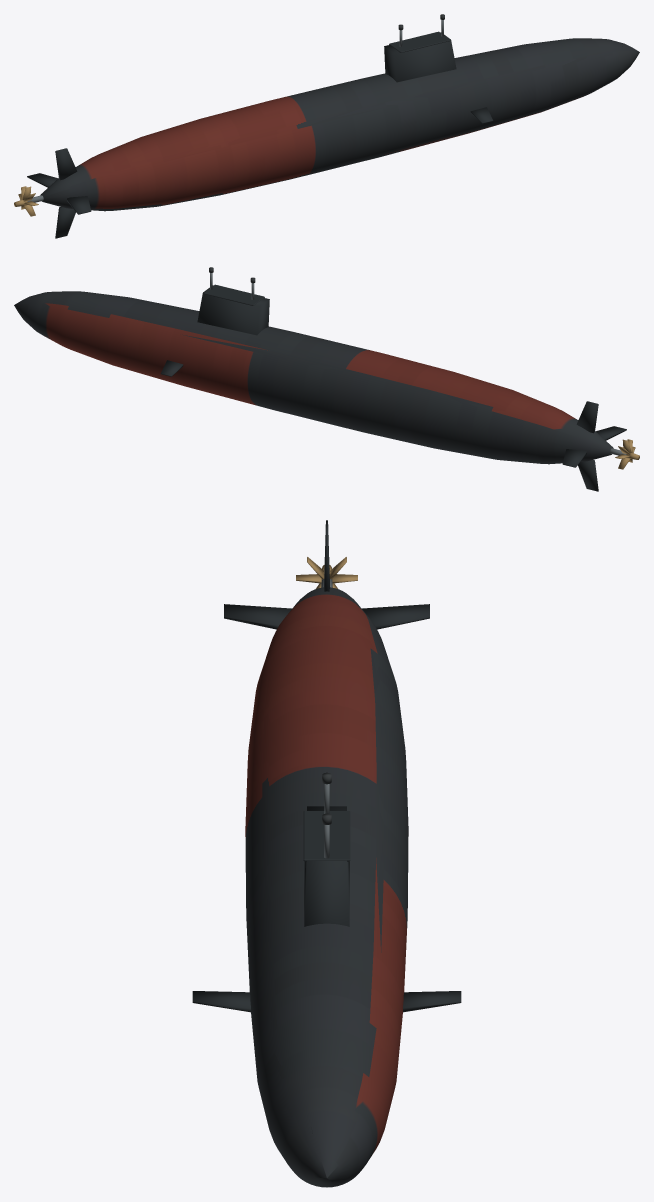
File: UK_SSN_Swiftsure_LOD2.fbx
The picture shows the model from 3 angles, top to bottom: view 1: azimuth 30°, elevation 25°; view 2: azimuth 150°, elevation 25°; view 3: azimuth 270°, elevation 25°; orthographic projection. The views are drawn at different scales.
Visible parts, largest first — view 1: UK_SSN_Swiftsure_LOD2; view 2: UK_SSN_Swiftsure_LOD2; view 3: UK_SSN_Swiftsure_LOD2.
Part boxes in pixels (x1,y1,x2,y2): UK_SSN_Swiftsure_LOD2: (14, 14, 639, 238); UK_SSN_Swiftsure_LOD2: (14, 267, 639, 491); UK_SSN_Swiftsure_LOD2: (192, 520, 461, 1187).
Size of the model in its own units: 86.65 by 16.15 by 17.07.
Materials: 6 (1 with a texture image).
